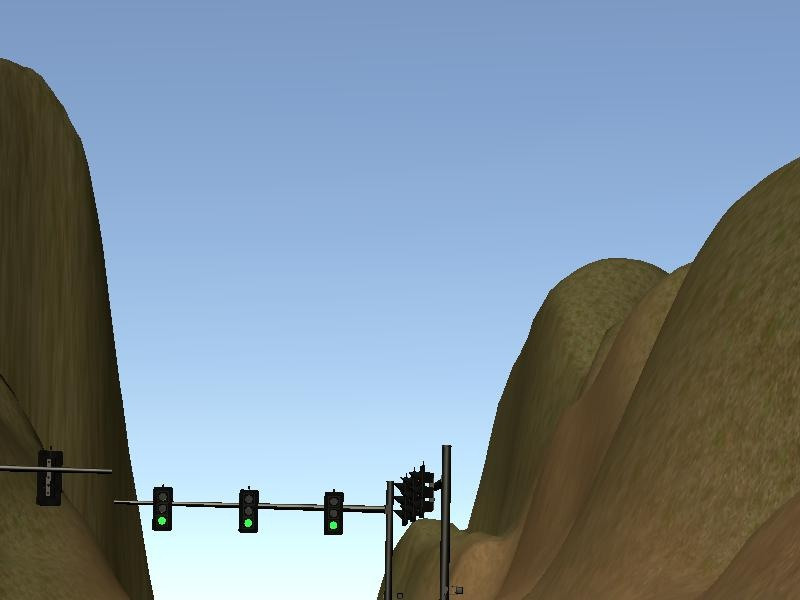green: (320, 492, 346, 535), (151, 484, 173, 530), (237, 487, 259, 532)
